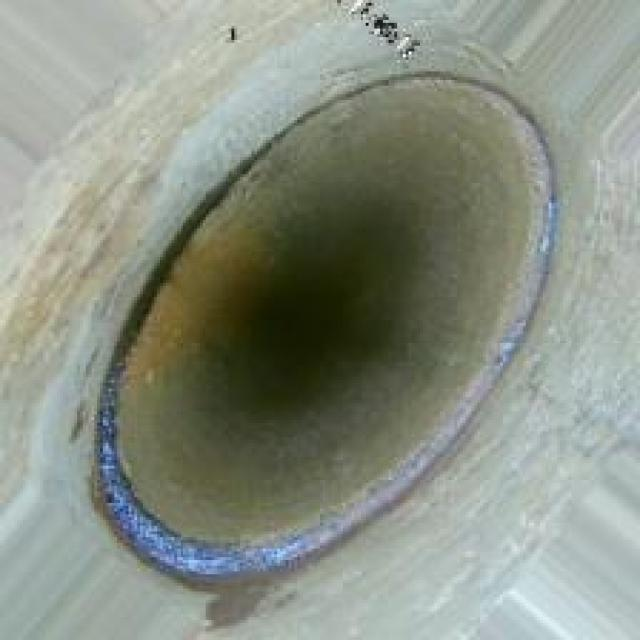joint: (83, 51, 548, 592)
